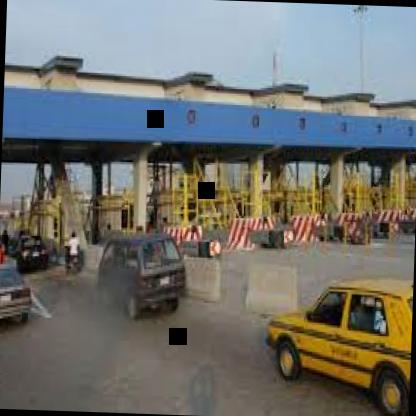car: (245, 246, 414, 416), (81, 222, 200, 319), (0, 252, 47, 344), (13, 218, 55, 268)
